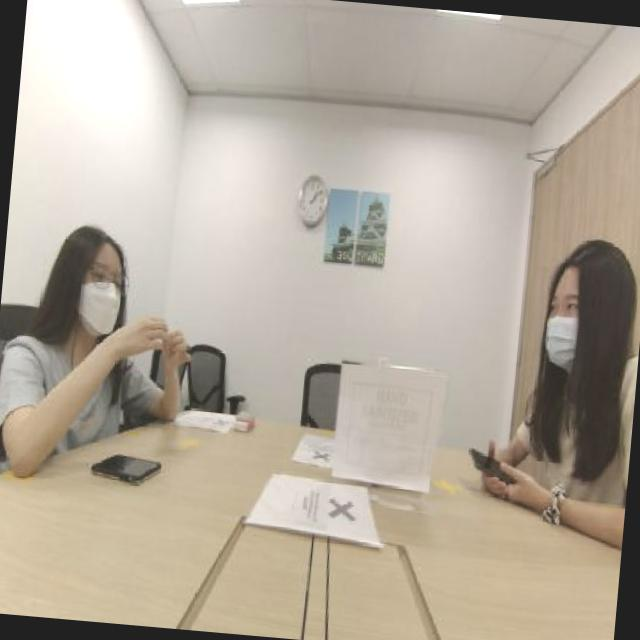Person: (2, 174, 210, 451), (497, 207, 640, 494)
